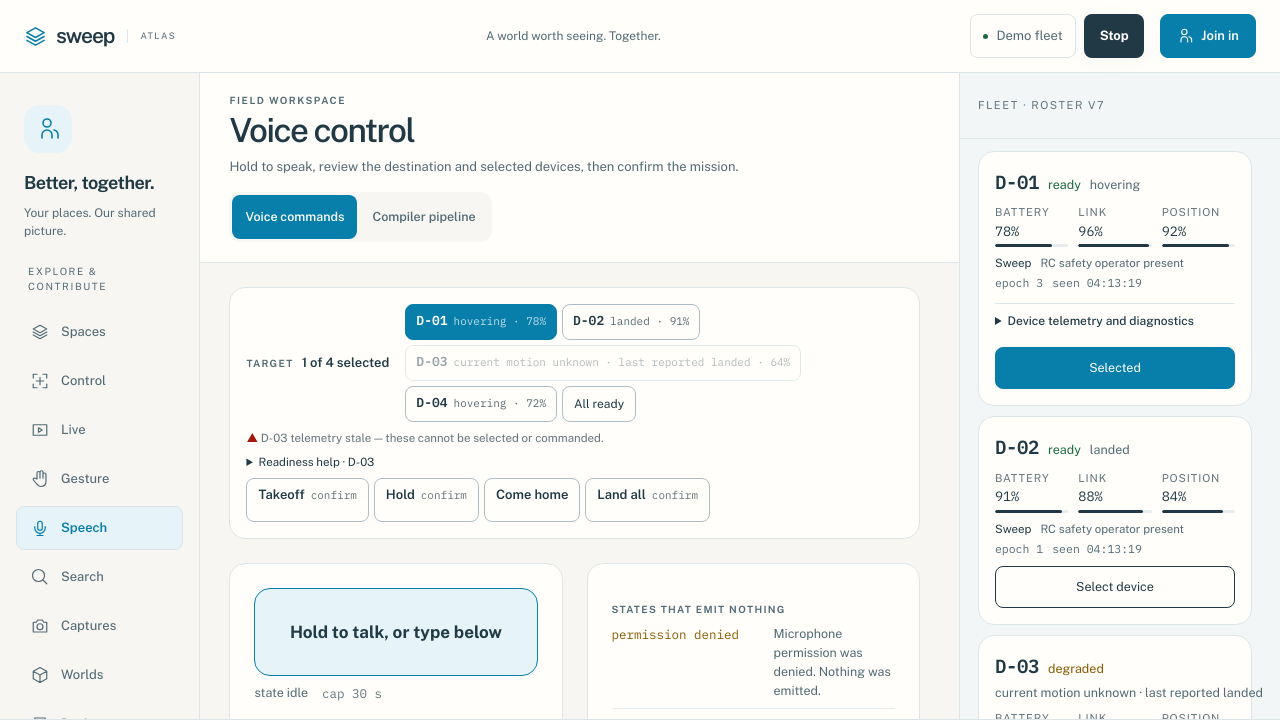
Test: Speech module › a relay clarification shows the options and stages nothing; a relay refusal shows the reason sentence
Step 1. Press the mouse on the button "Hold to talk, or type below" → (396, 632), box [254,588,538,676]
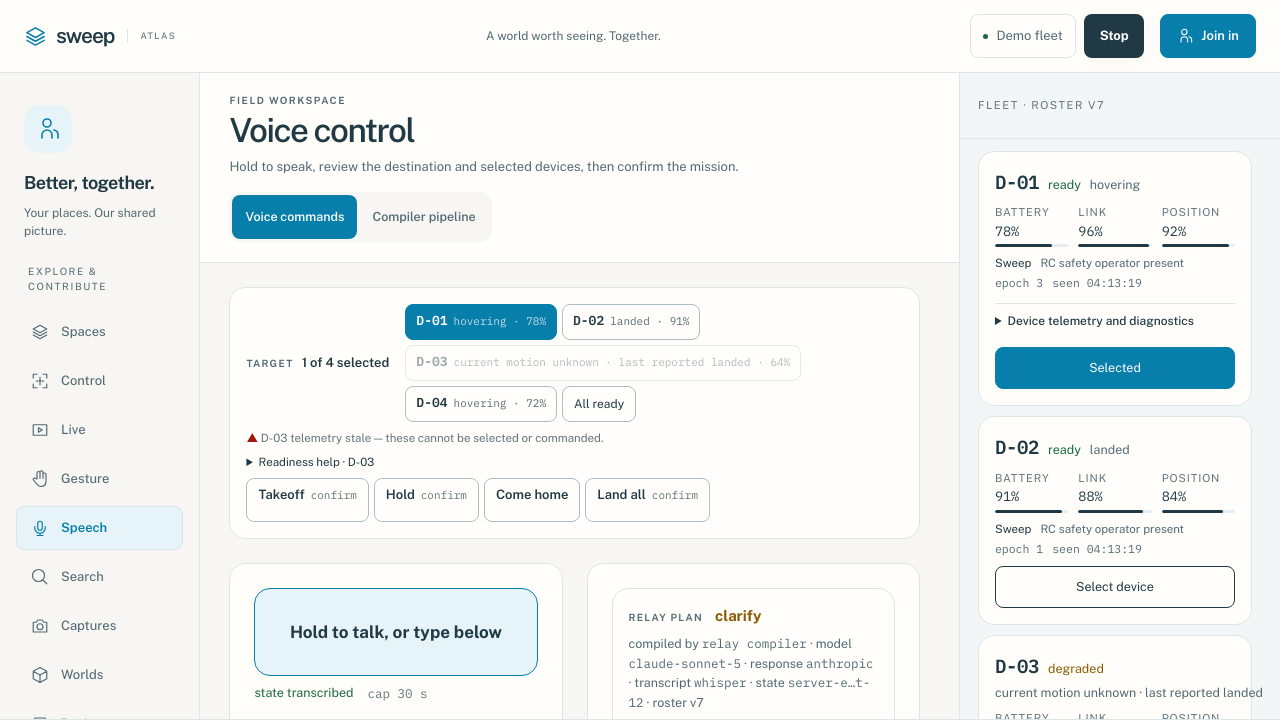
Check: the element named "Compiled plan" shows "clarify", box [715,607,761,624]
Step 2. Press the mouse on the button "Hold to talk, or type below" → (396, 632), box [254,588,538,676]
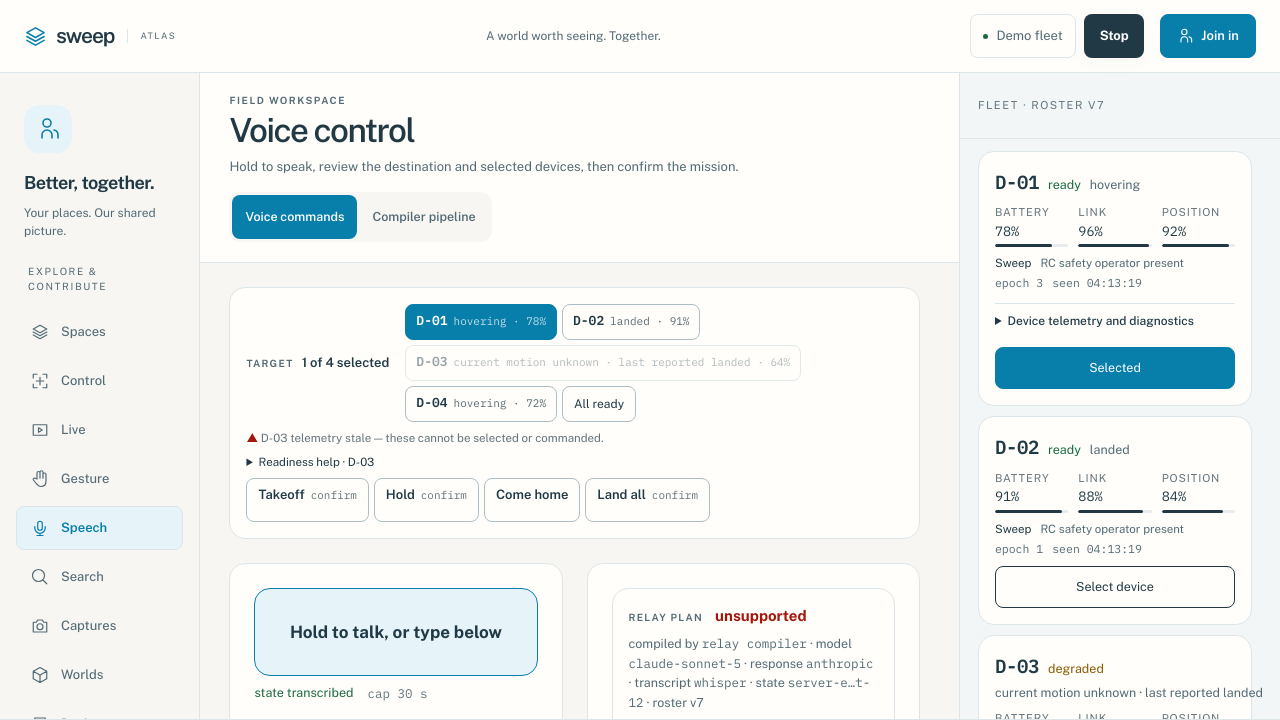
Check: the element named "Compiled plan" shows "unsupported", box [715,607,806,624]
Step 3. Press the mouse on the button "Hold to talk, or type below" → (396, 632), box [254,588,538,676]
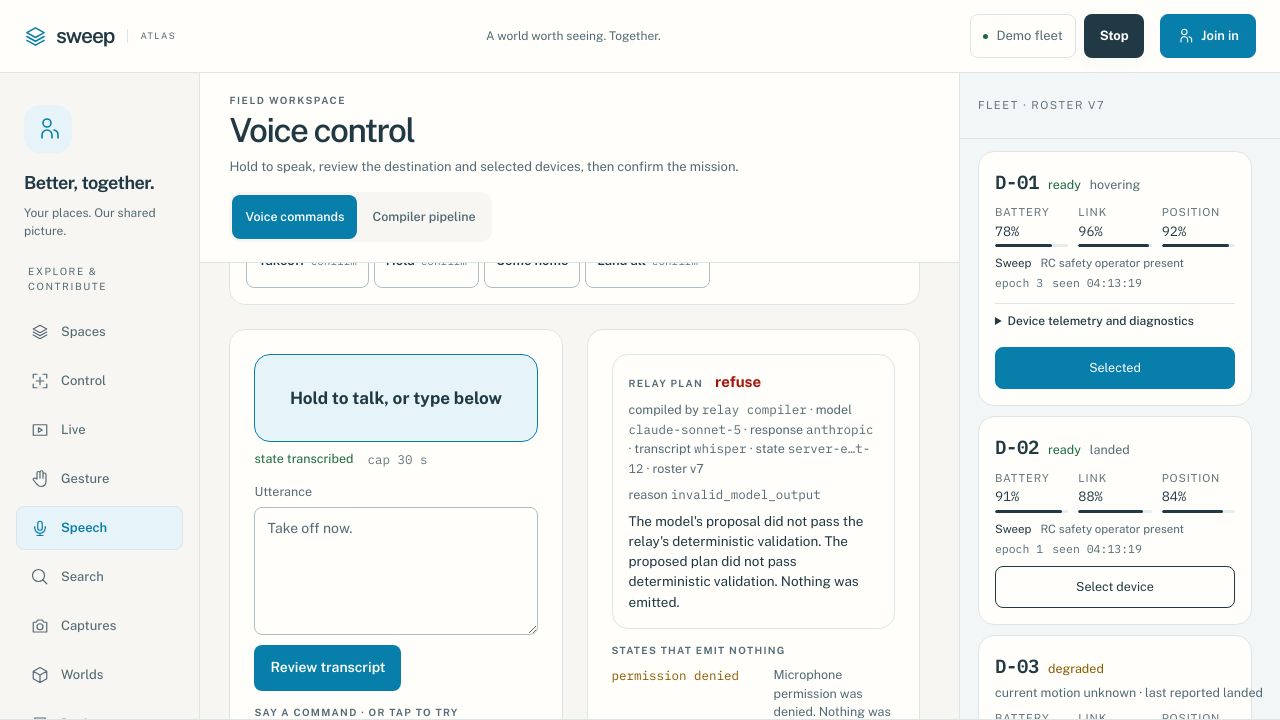
Check: the element named "Compiled plan" shows "refuse", box [715,373,761,390]
Check: the element named "Compiled plan" shows "reason invalid_model_output", box [612,354,895,629]
Check: the element named "Compiled plan" shows "The model's proposal did not pass the relay's deterministic validation. The proposed plan did not pass deterministic validation. Nothing was emitted.", box [628,512,863,610]
